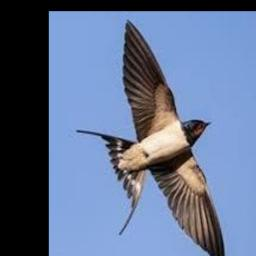Swallow: (76, 19, 225, 256)
